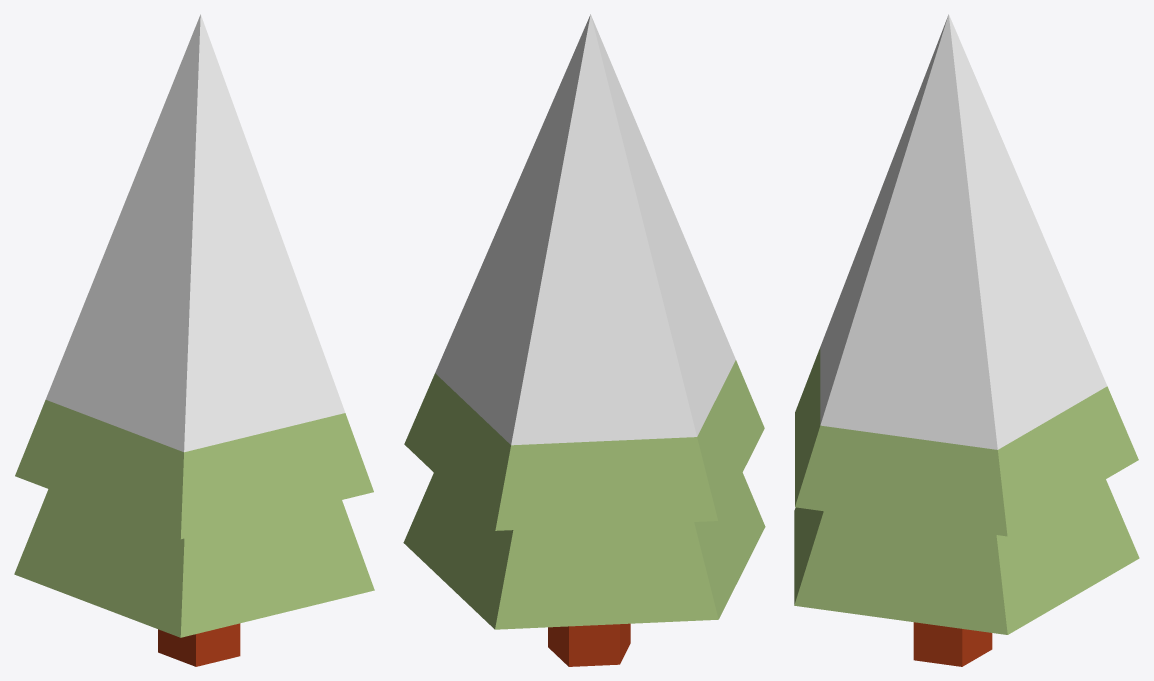
Rendered from tree.obj.
3 renders of one model, left to right at view 1: azimuth 30°, elevation 25°; view 2: azimuth 150°, elevation 25°; view 3: azimuth 270°, elevation 25°, orthographic.
Visible parts, largest first — view 1: tree_Cone; view 2: tree_Cone; view 3: tree_Cone.
Boxes of the visible parts, x1,y1,x2,y2 form: tree_Cone: [14, 14, 374, 666]; tree_Cone: [403, 14, 765, 666]; tree_Cone: [794, 14, 1139, 666].
Bounding box in the file's own units: 1 × 1.93 × 0.9512.
